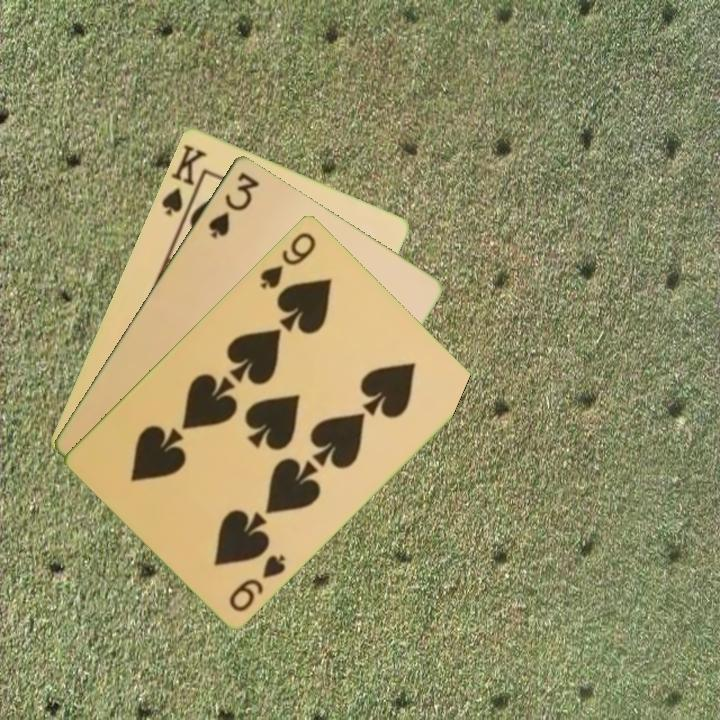3s: (204, 168, 263, 241)
9s: (225, 550, 289, 614), (256, 228, 319, 292)
Ks: (158, 140, 210, 218)
